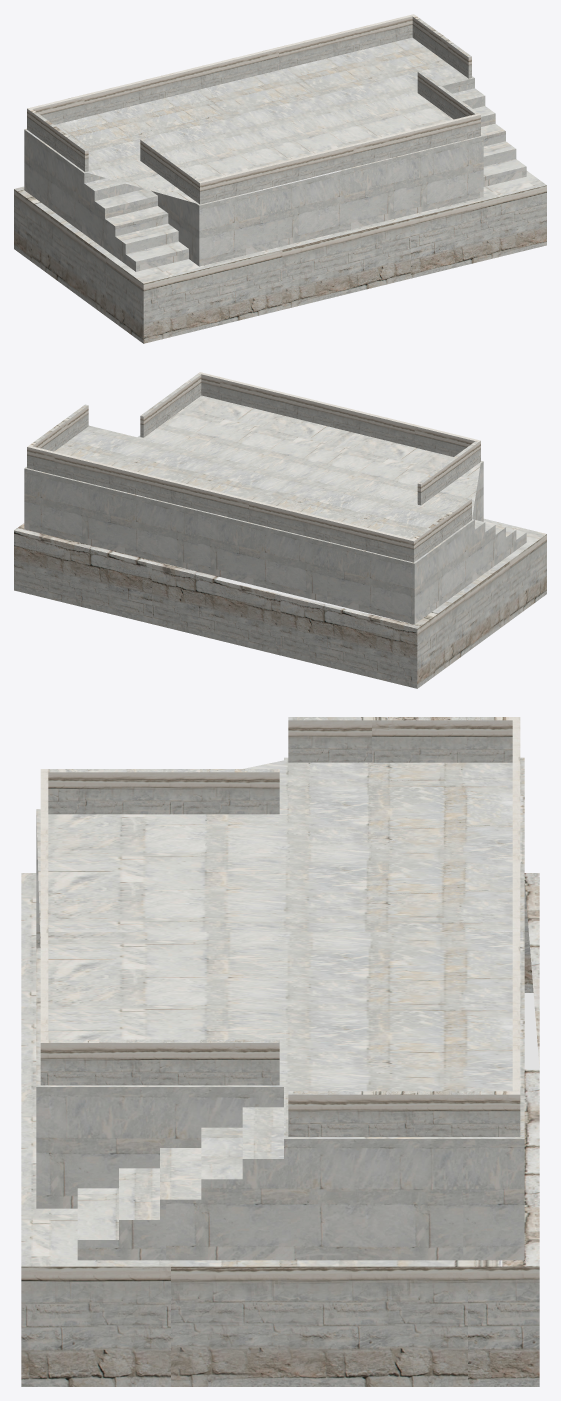
File: bema.fbx
3 renders of one model, top to bottom at view 1: azimuth 30°, elevation 25°; view 2: azimuth 150°, elevation 25°; view 3: azimuth 270°, elevation 25°, orthographic. The views are drawn at different scales.
Parts seen in each view (by area): view 1: Group1; view 2: Group1; view 3: Group1.
Boxes of the visible parts, x1,y1,x2,y2 form: Group1: (14,14,546,343); Group1: (14,372,546,688); Group1: (21,717,539,1386).
Bounding box in the file's own units: 13628 × 4584 × 7579.
